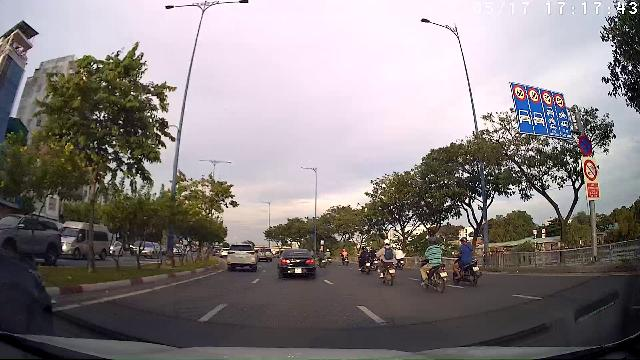127-toc-do-toi-da-50: (554, 94, 565, 109), (542, 91, 553, 106)
127-toc-do-toi-da-60: (513, 84, 526, 101), (528, 88, 540, 104)
130-cam-dung-va-do-xe: (579, 135, 593, 155)
